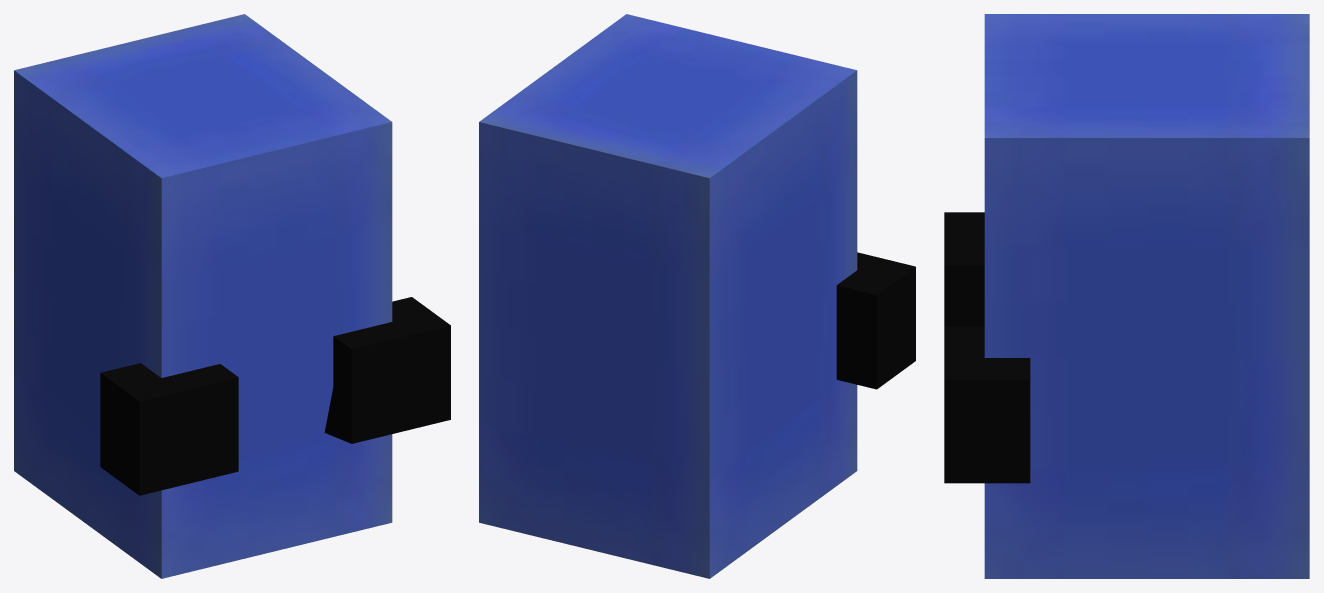
The model's file is minion.fbx.
3 views of the same model, side by side, from view 1: azimuth 30°, elevation 25°; view 2: azimuth 150°, elevation 25°; view 3: azimuth 270°, elevation 25° (orthographic). The views are drawn at different scales.
Visible parts, largest first — view 1: minion_uv_map, minion_eyes; view 2: minion_uv_map, minion_eyes; view 3: minion_uv_map, minion_eyes.
Boxes of the visible parts, <box> form: minion_uv_map: <box>14,14,392,578</box>; minion_eyes: <box>100,297,450,495</box>; minion_uv_map: <box>479,14,857,578</box>; minion_eyes: <box>836,252,915,389</box>; minion_uv_map: <box>984,14,1309,578</box>; minion_eyes: <box>944,212,1030,483</box>.
Bounding box in the file's own units: 47.02 × 57.81 × 43.37.
Materials: 2 (1 with a texture image).
